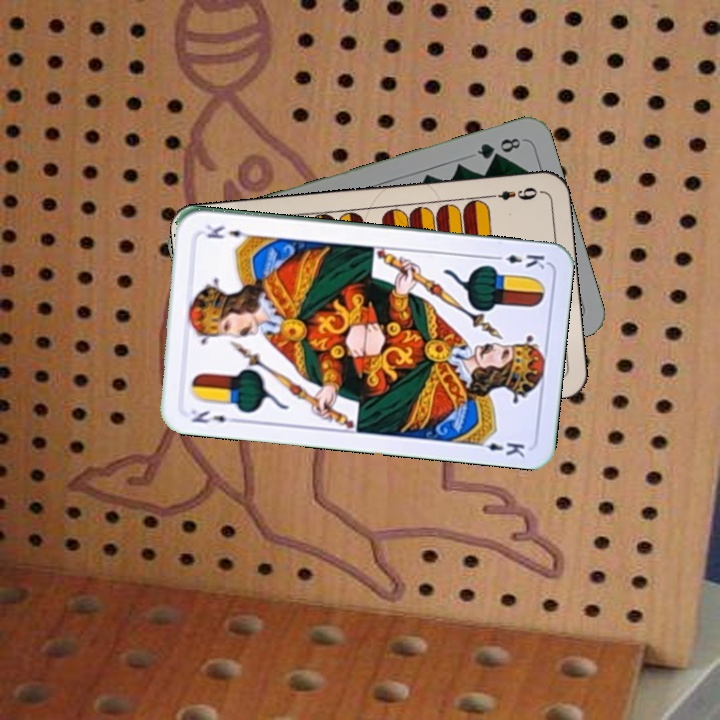E9: (484, 183, 540, 203)
EK: (489, 250, 547, 271), (187, 406, 240, 426)
G8: (472, 133, 524, 162)
